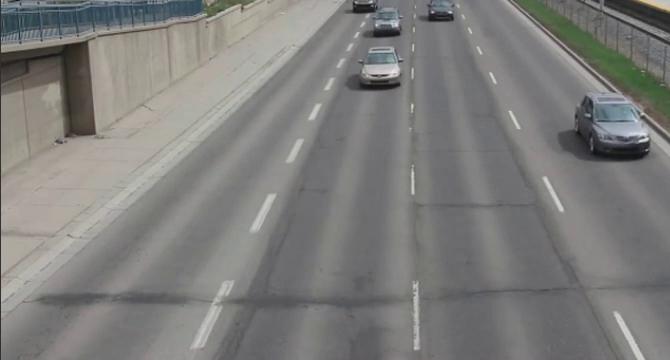car: (569, 90, 653, 161), (357, 42, 404, 88), (369, 6, 408, 34), (427, 1, 464, 21)
